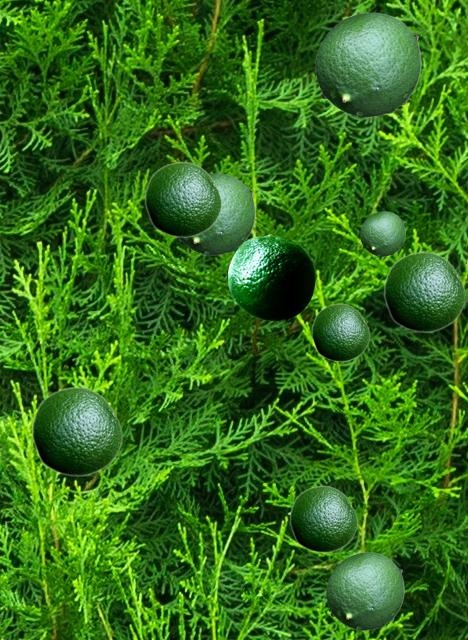calamansi: (315, 12, 420, 116), (31, 386, 122, 476), (228, 234, 314, 319), (383, 251, 465, 332), (176, 173, 254, 254), (326, 552, 403, 629), (144, 161, 221, 237), (289, 485, 357, 552), (311, 303, 369, 361), (360, 211, 404, 255)
